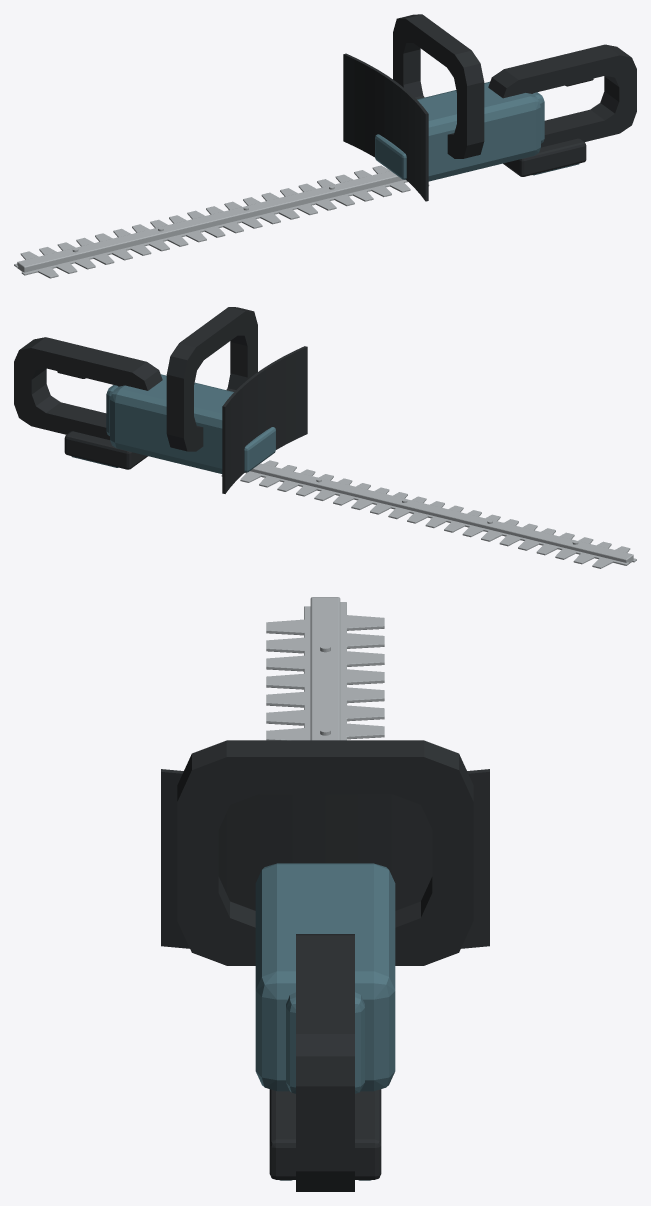
The model's file is full.glb.
3 renders of one model, top to bottom at view 1: azimuth 30°, elevation 25°; view 2: azimuth 150°, elevation 25°; view 3: azimuth 270°, elevation 25°, orthographic. The views are drawn at different scales.
Visible parts, largest first — view 1: Rear axial loop trigger grip, Curved front hand protection plate, Compact rear motor body, Transverse wrap front handle, Long central blade spine, Static toothed blade strip -1, Static toothed blade strip 1, Generic empty rear coupling, Handguard mounting root; view 2: Rear axial loop trigger grip, Curved front hand protection plate, Compact rear motor body, Transverse wrap front handle, Long central blade spine, Static toothed blade strip 1, Generic empty rear coupling, Static toothed blade strip -1, Handguard mounting root; view 3: Transverse wrap front handle, Curved front hand protection plate, Compact rear motor body, Rear axial loop trigger grip, Generic empty rear coupling, Static toothed blade strip 1, Static toothed blade strip -1, Long central blade spine, Rear grip mounting neck.
Boxes of the visible parts, x1,y1,x2,y2 form: Rear axial loop trigger grip: [488, 44, 636, 147]; Curved front hand protection plate: [343, 53, 428, 201]; Compact rear motor body: [417, 81, 540, 181]; Transverse wrap front handle: [393, 14, 484, 158]; Long central blade spine: [17, 171, 403, 272]; Static toothed blade strip -1: [21, 180, 429, 278]; Static toothed blade strip 1: [14, 165, 390, 267]; Generic empty rear coupling: [503, 138, 586, 176]; Handguard mounting root: [375, 134, 406, 179]; Rear axial loop trigger grip: [14, 337, 162, 439]; Curved front hand protection plate: [222, 346, 307, 493]; Compact rear motor body: [110, 374, 233, 473]; Transverse wrap front handle: [166, 307, 257, 451]; Long central blade spine: [250, 463, 633, 564]; Static toothed blade strip 1: [221, 471, 629, 568]; Generic empty rear coupling: [64, 431, 147, 469]; Static toothed blade strip -1: [263, 460, 636, 562]; Handguard mounting root: [244, 427, 275, 472]; Transverse wrap front handle: [177, 740, 473, 965]; Curved front hand protection plate: [161, 769, 489, 948]; Compact rear motor body: [255, 863, 395, 1091]; Rear axial loop trigger grip: [296, 934, 354, 1191]; Generic empty rear coupling: [269, 1089, 381, 1179]; Static toothed blade strip 1: [340, 602, 384, 740]; Static toothed blade strip -1: [266, 606, 310, 740]; Long central blade spine: [310, 597, 340, 740]; Rear grip mounting neck: [286, 992, 364, 1093].
Size of the model in its own units: 0.8568 by 0.2055 by 0.2.
